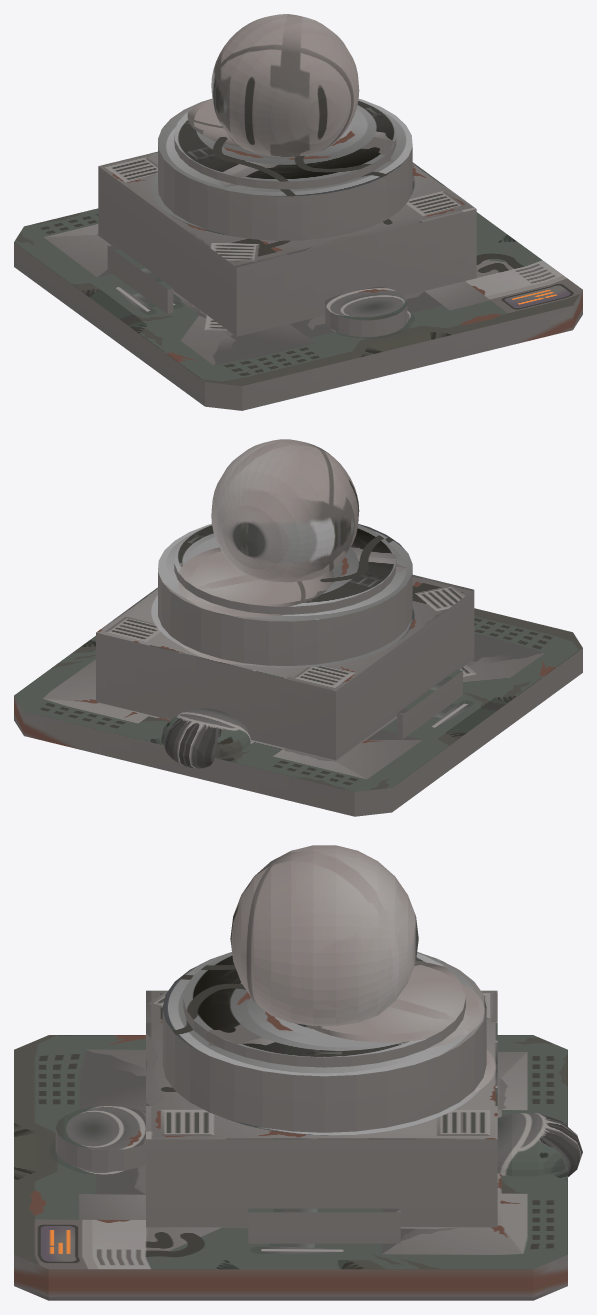
The model's file is Building_AncientGravReactor.glb.
3 renders of one model, top to bottom at view 1: azimuth 30°, elevation 25°; view 2: azimuth 150°, elevation 25°; view 3: azimuth 270°, elevation 25°, orthographic. The views are drawn at different scales.
Parts seen in each view (by area): view 1: AncientGravReactor; view 2: AncientGravReactor; view 3: AncientGravReactor.
Boxes of the visible parts, x1,y1,x2,y2 form: AncientGravReactor: (14,14,582,410); AncientGravReactor: (14,439,582,816); AncientGravReactor: (14,845,582,1300).
Bounding box in the file's own units: 4 × 2.63 × 4.11.
Materials: 1 (1 with a texture image).
